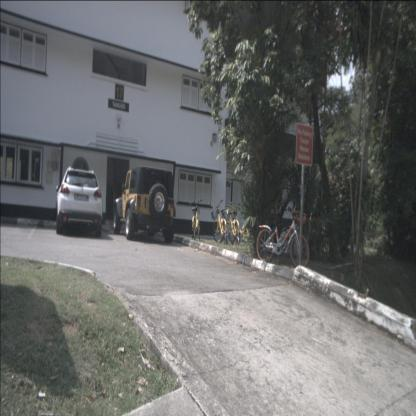vehicle-bicycle: (256, 206, 310, 269), (210, 199, 228, 245), (224, 203, 240, 246), (189, 198, 203, 241)
vehicle-car: (112, 166, 174, 244), (56, 167, 103, 238)
